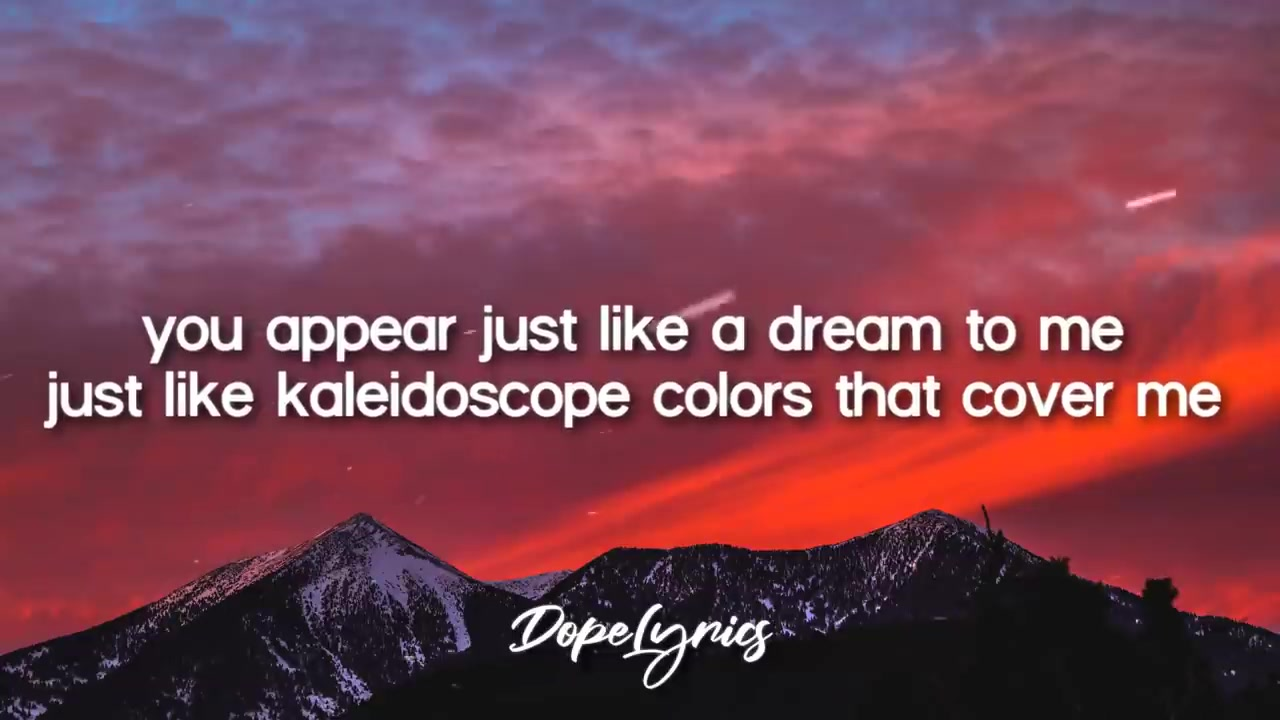text-label: (36, 369, 1225, 431), (132, 304, 1130, 368)
